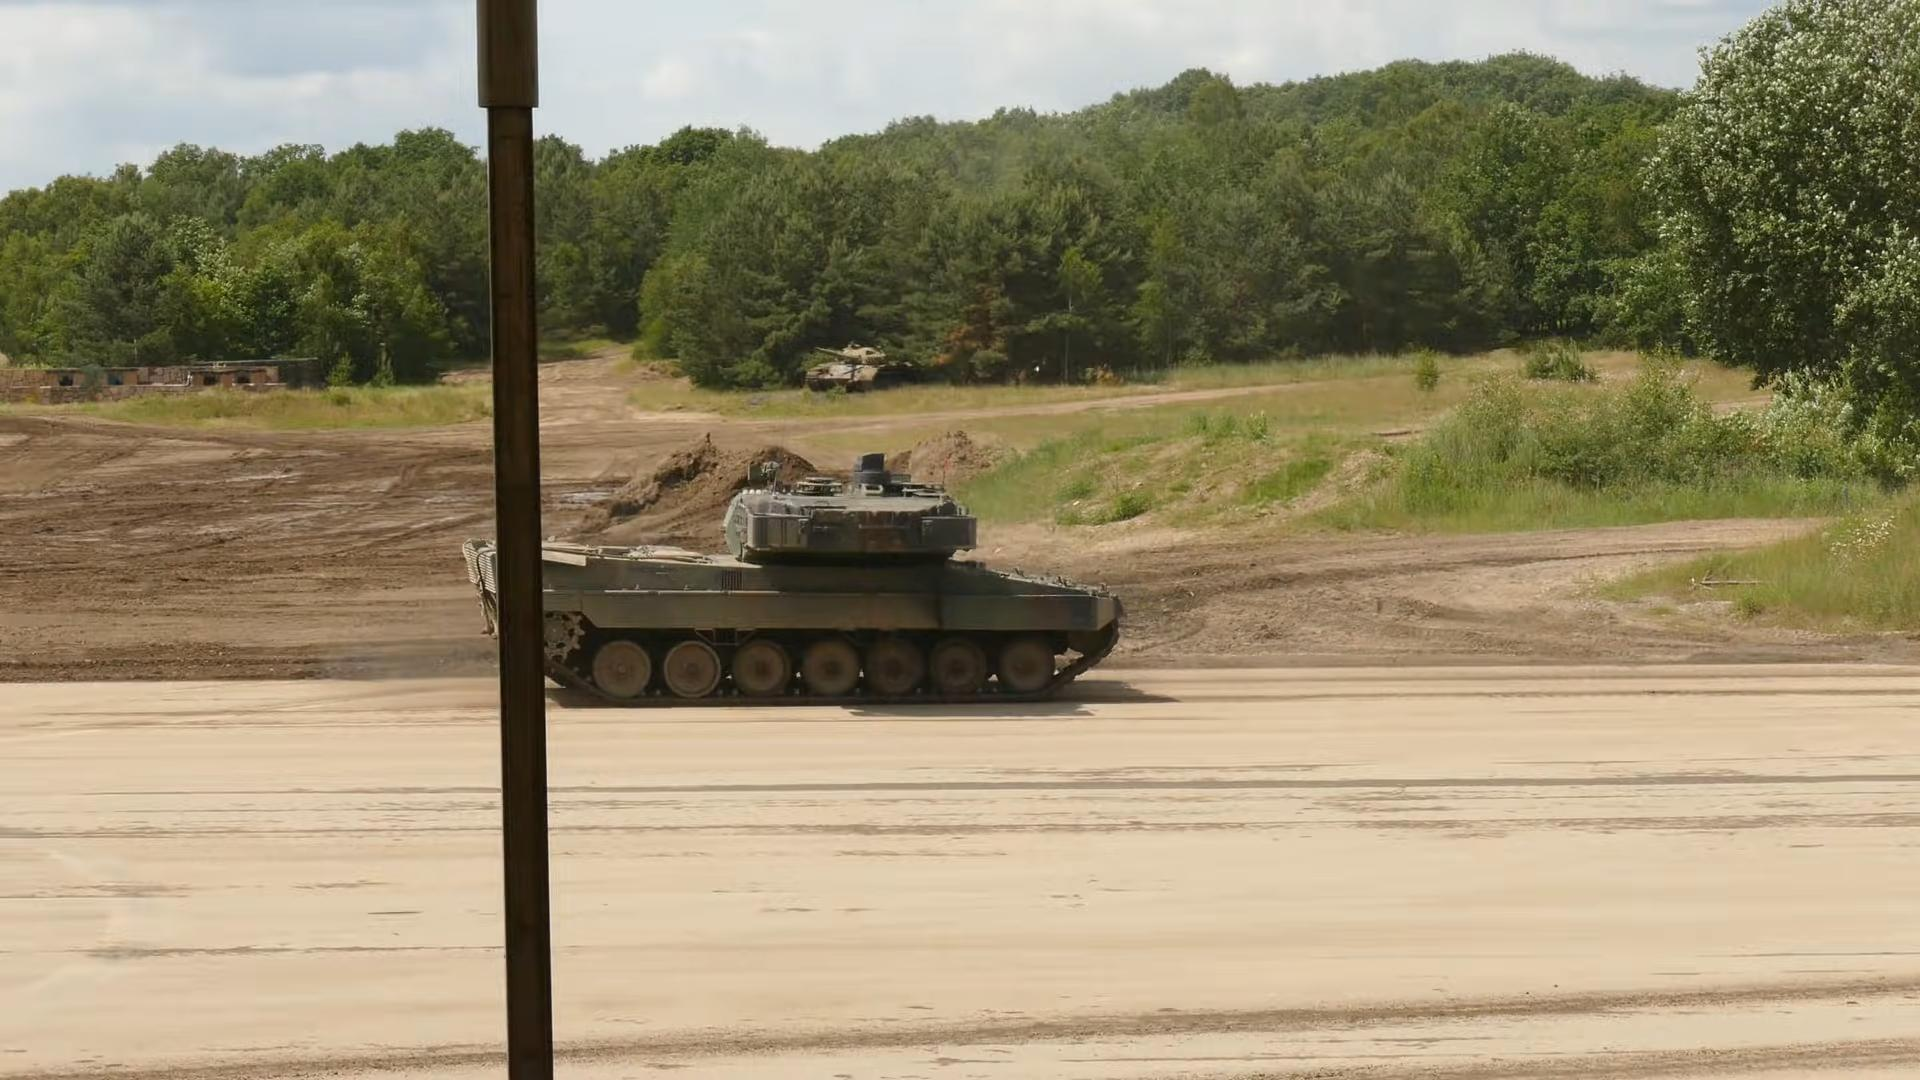tank: (462, 450, 1124, 708), (803, 343, 923, 393)
